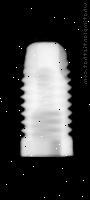Nobel Biocare: (20, 40, 74, 157)
